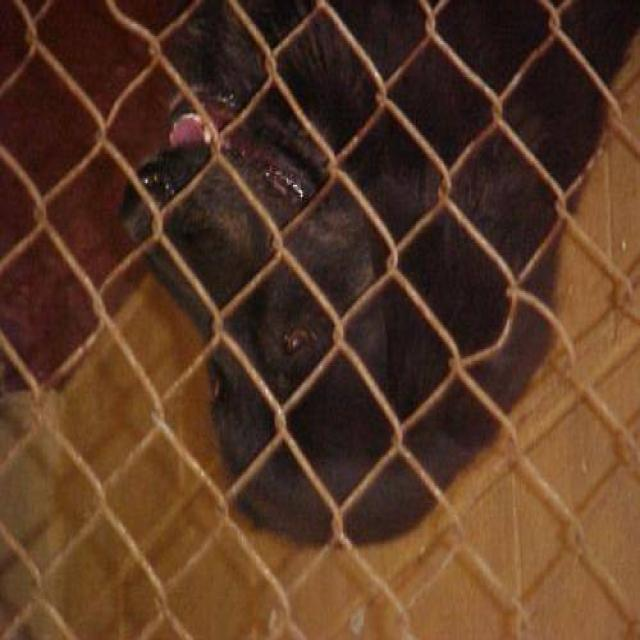dog: (107, 0, 617, 572)
